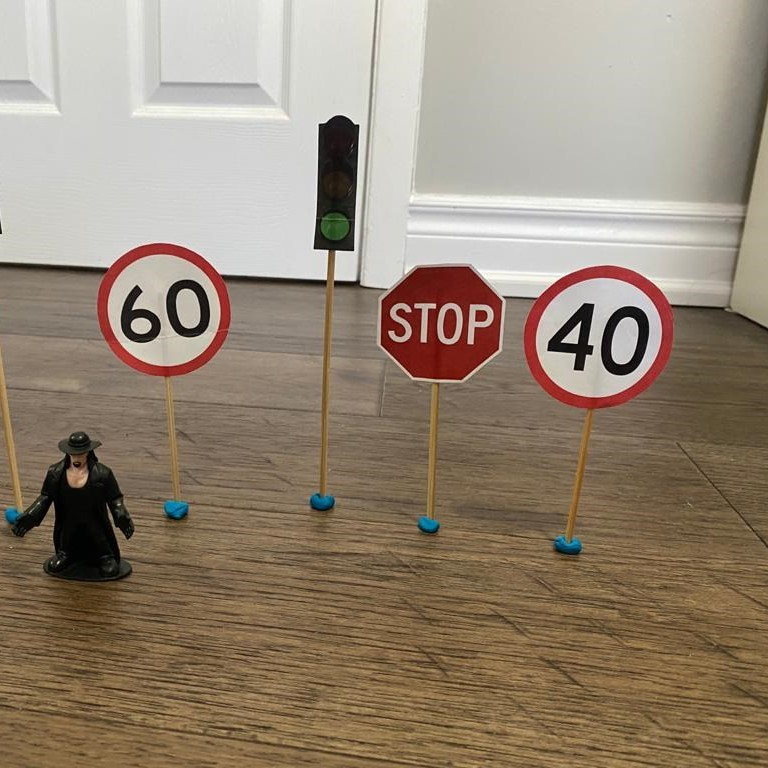Green Traffic Light: (306, 109, 367, 255)
Person: (12, 427, 140, 588)
Speed Limit 40: (519, 263, 675, 419)
Speed Limit 60: (92, 239, 231, 377)
Stop Sign: (374, 259, 507, 388)
